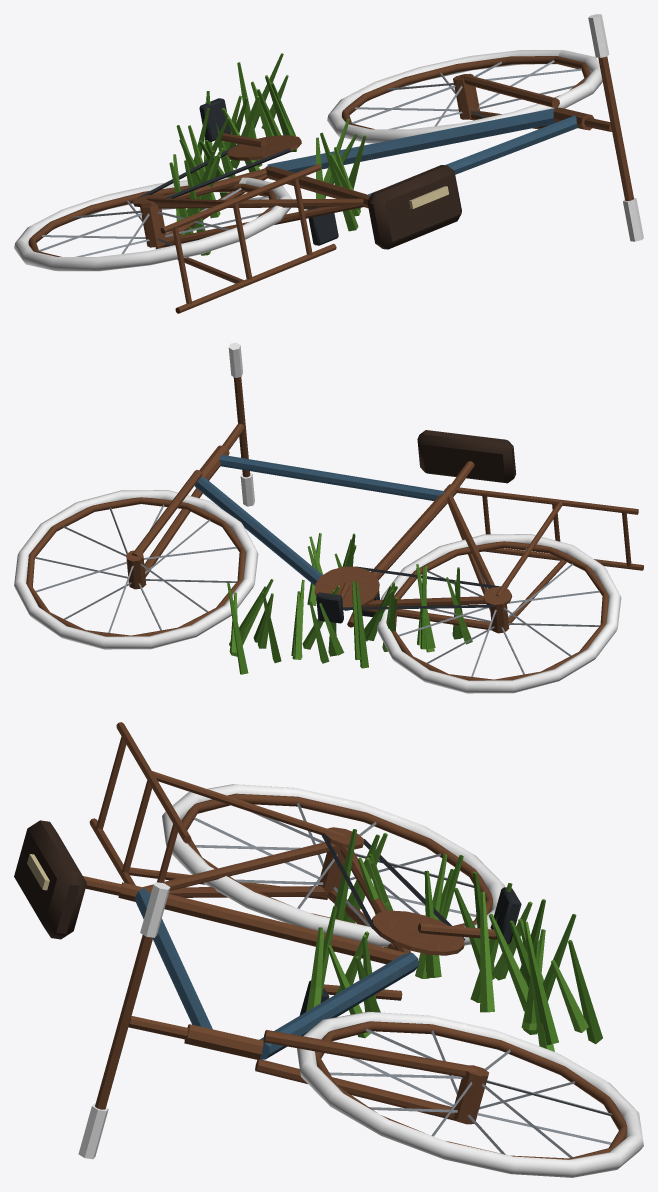
File: bicycle_rusty.glb
The picture shows the model from 3 angles, top to bottom: view 1: azimuth 30°, elevation 25°; view 2: azimuth 150°, elevation 25°; view 3: azimuth 270°, elevation 25°; orthographic projection. The views are drawn at different scales.
Visible parts, largest first — view 1: bicycle_rusty; view 2: bicycle_rusty; view 3: bicycle_rusty.
Part boxes in pixels (box(x1,y1,x2,y2)): bicycle_rusty: box(14, 14, 643, 313); bicycle_rusty: box(14, 342, 643, 693); bicycle_rusty: box(14, 722, 643, 1177).
Bounding box in the file's own units: 1.68 × 0.5759 × 1.18.
Materials: 9 (9 with a texture image).
